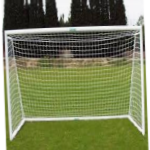goals: (3, 23, 147, 144)
